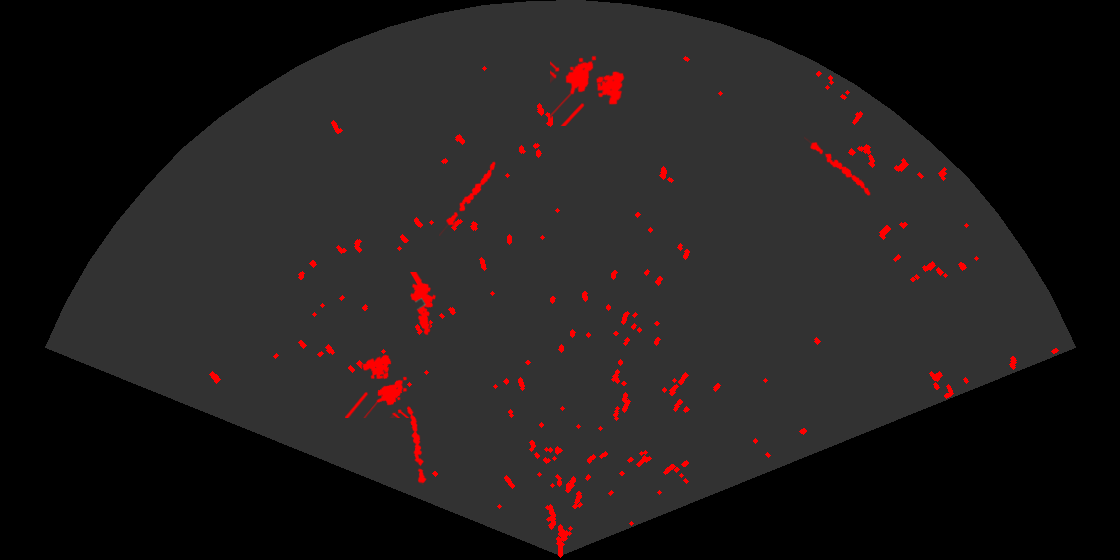cage: (550, 54, 626, 126), (345, 353, 411, 418)
chain: (439, 160, 497, 236), (804, 135, 872, 197), (405, 404, 428, 485)
frogman: (409, 272, 437, 337)
